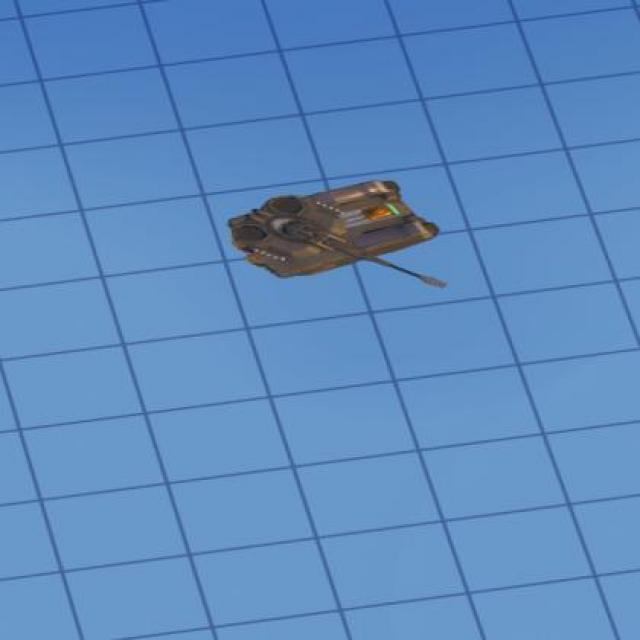tank: (226, 177, 450, 291)
